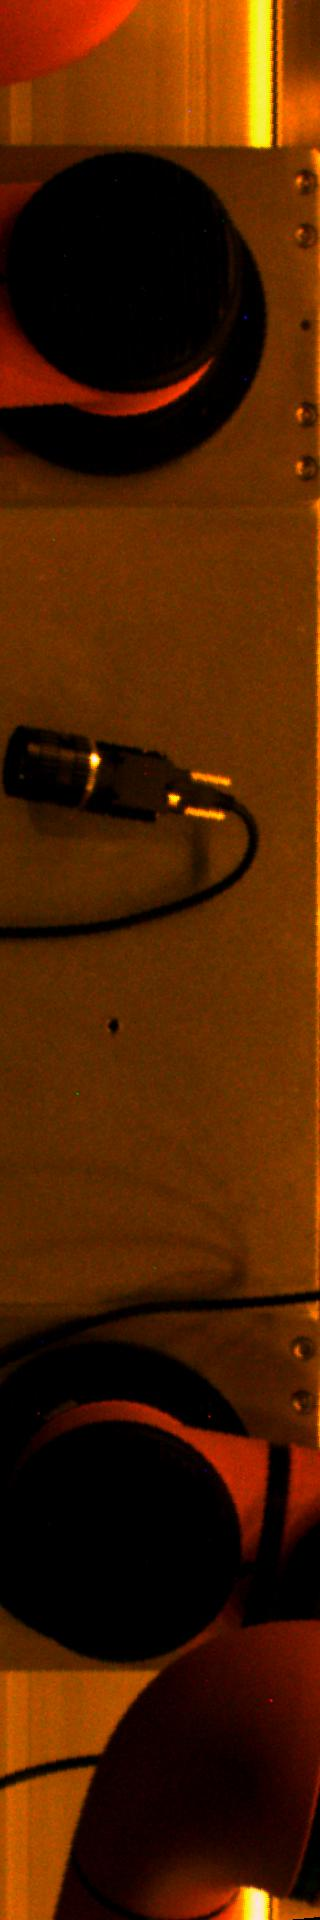keyPoint_2: (98, 1011, 128, 1041)
